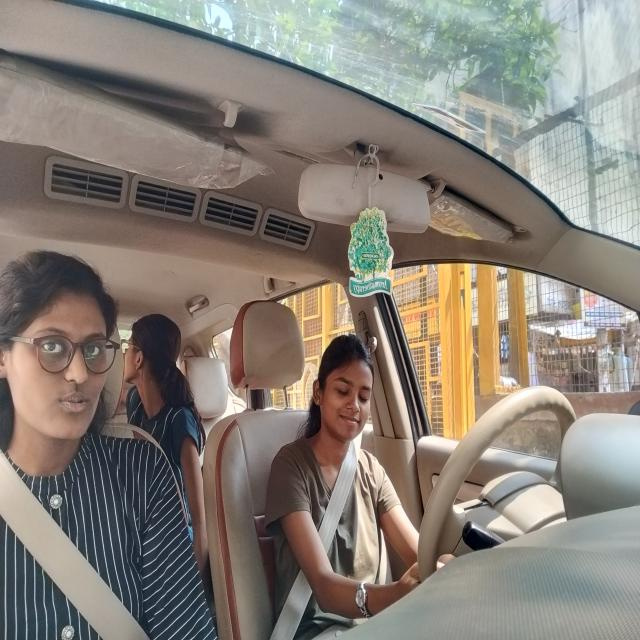drowsy: (312, 333, 374, 443)
person: (0, 247, 119, 445), (122, 314, 183, 393)
